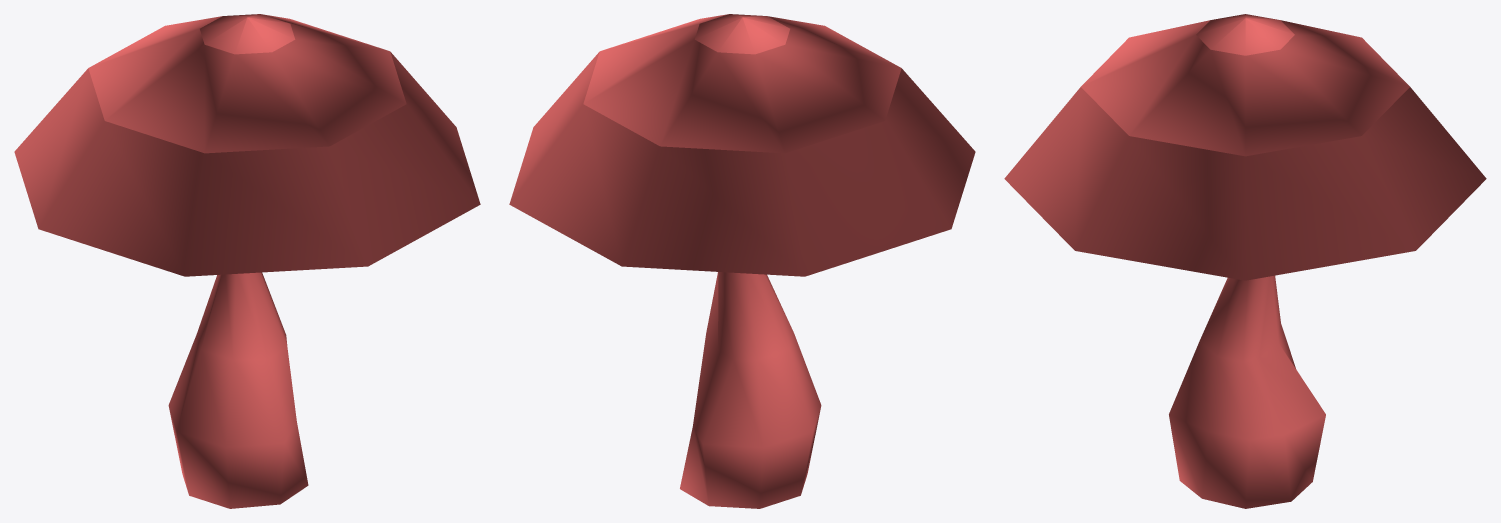
File: testmashroom.fbx
3 renders of one model, left to right at view 1: azimuth 30°, elevation 25°; view 2: azimuth 150°, elevation 25°; view 3: azimuth 270°, elevation 25°, orthographic.
Parts seen in each view (by area): view 1: 円; view 2: 円; view 3: 円.
Boxes of the visible parts, x1,y1,x2,y2 form: 円: (14, 14, 480, 508); 円: (509, 14, 975, 508); 円: (1004, 14, 1486, 508).
Size of the model in its own units: 7.16 by 7.61 by 7.16.
